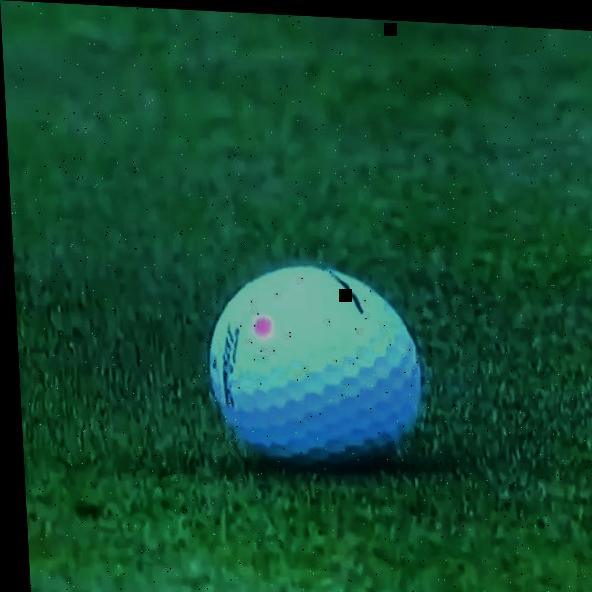GolfBall: (200, 257, 420, 466)
